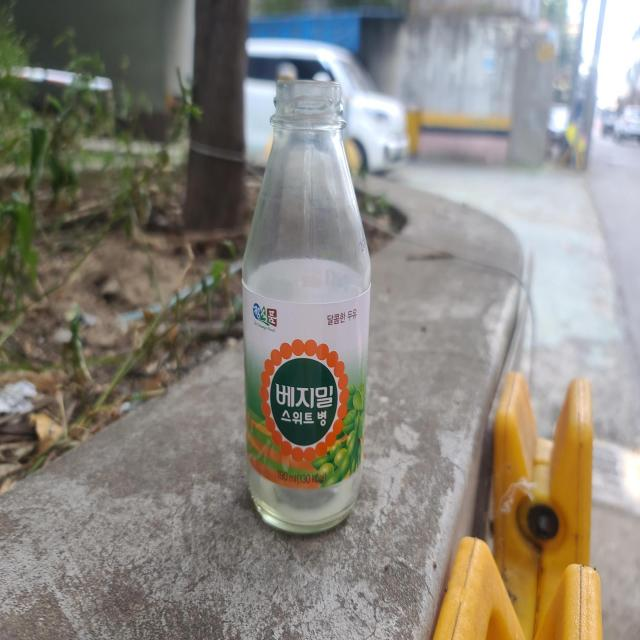glass: (243, 79, 371, 533)
